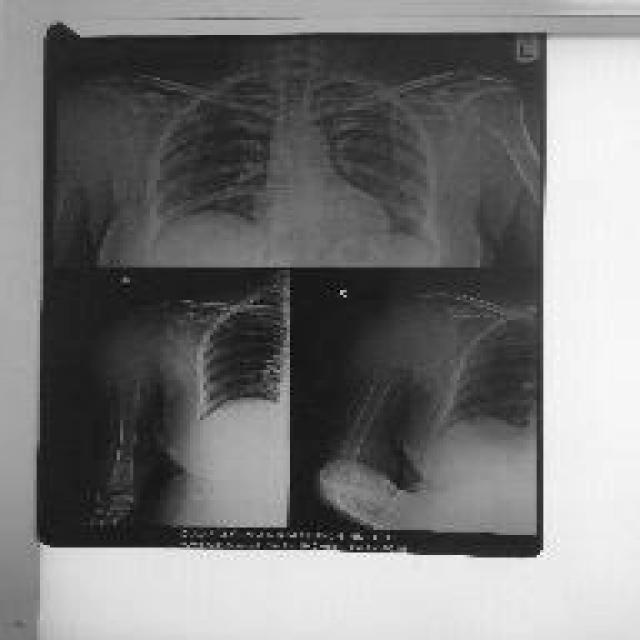bone-cancer: (48, 66, 165, 221), (342, 271, 473, 379), (92, 301, 171, 392)
